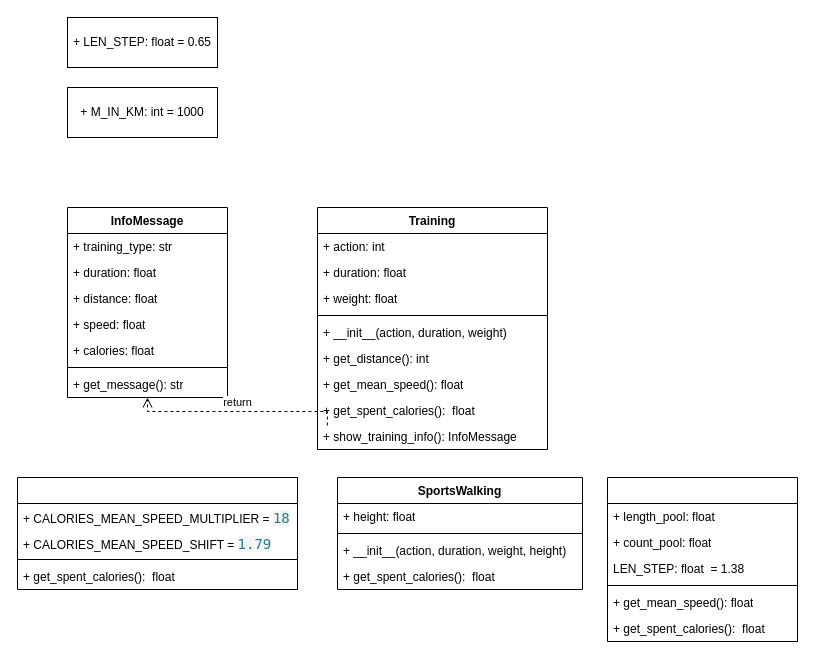
The diagram is 815 pixels wide and 662 high, and some of its shapes have lost their labels. Here are the shapes that lost their labels. From the top down, the box of each, then its label:
(16, 476, 298, 590): Running
(606, 476, 798, 642): Swimming
